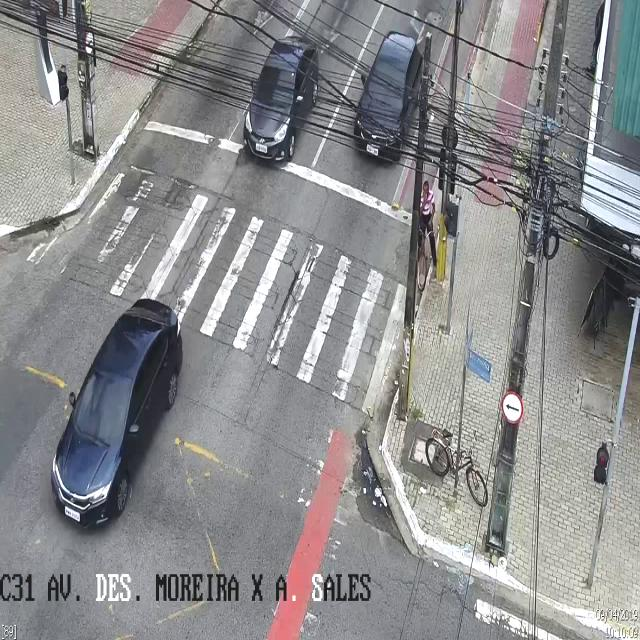Car: (49, 300, 185, 530), (244, 39, 319, 164), (355, 30, 423, 166)
